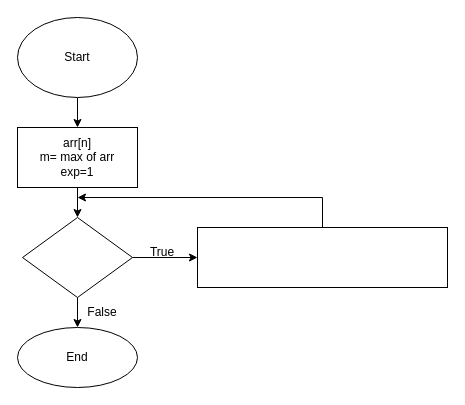
Image size: 465x405. Some labels were removed from this diagram. The shapes that lost their labels are listed below. From the top down, each one's centre as x and y in pixels, then its label:
At [77,257]: "m/exp>0".
At [322,257]: "Do sort with digit at log(exp)+1 from backward exp*=10".
